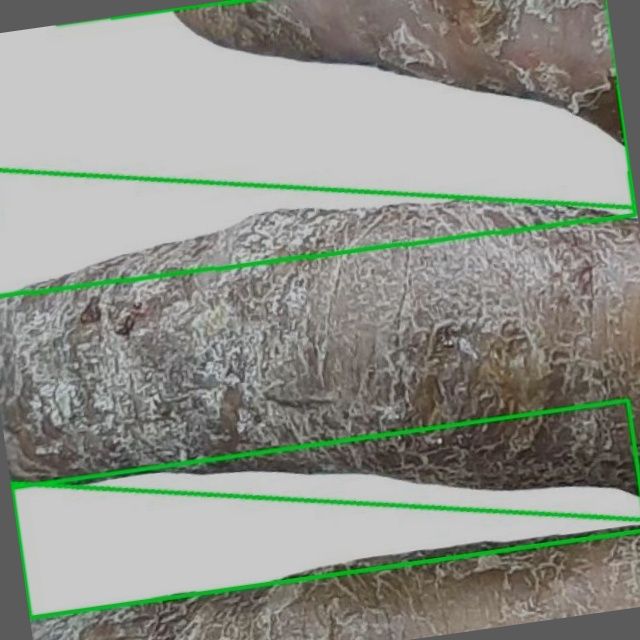Eczema: (0, 171, 639, 519), (0, 0, 636, 297), (11, 400, 639, 617)
